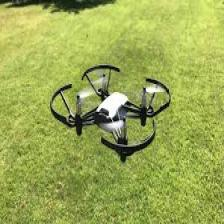drone: (49, 64, 171, 161)
